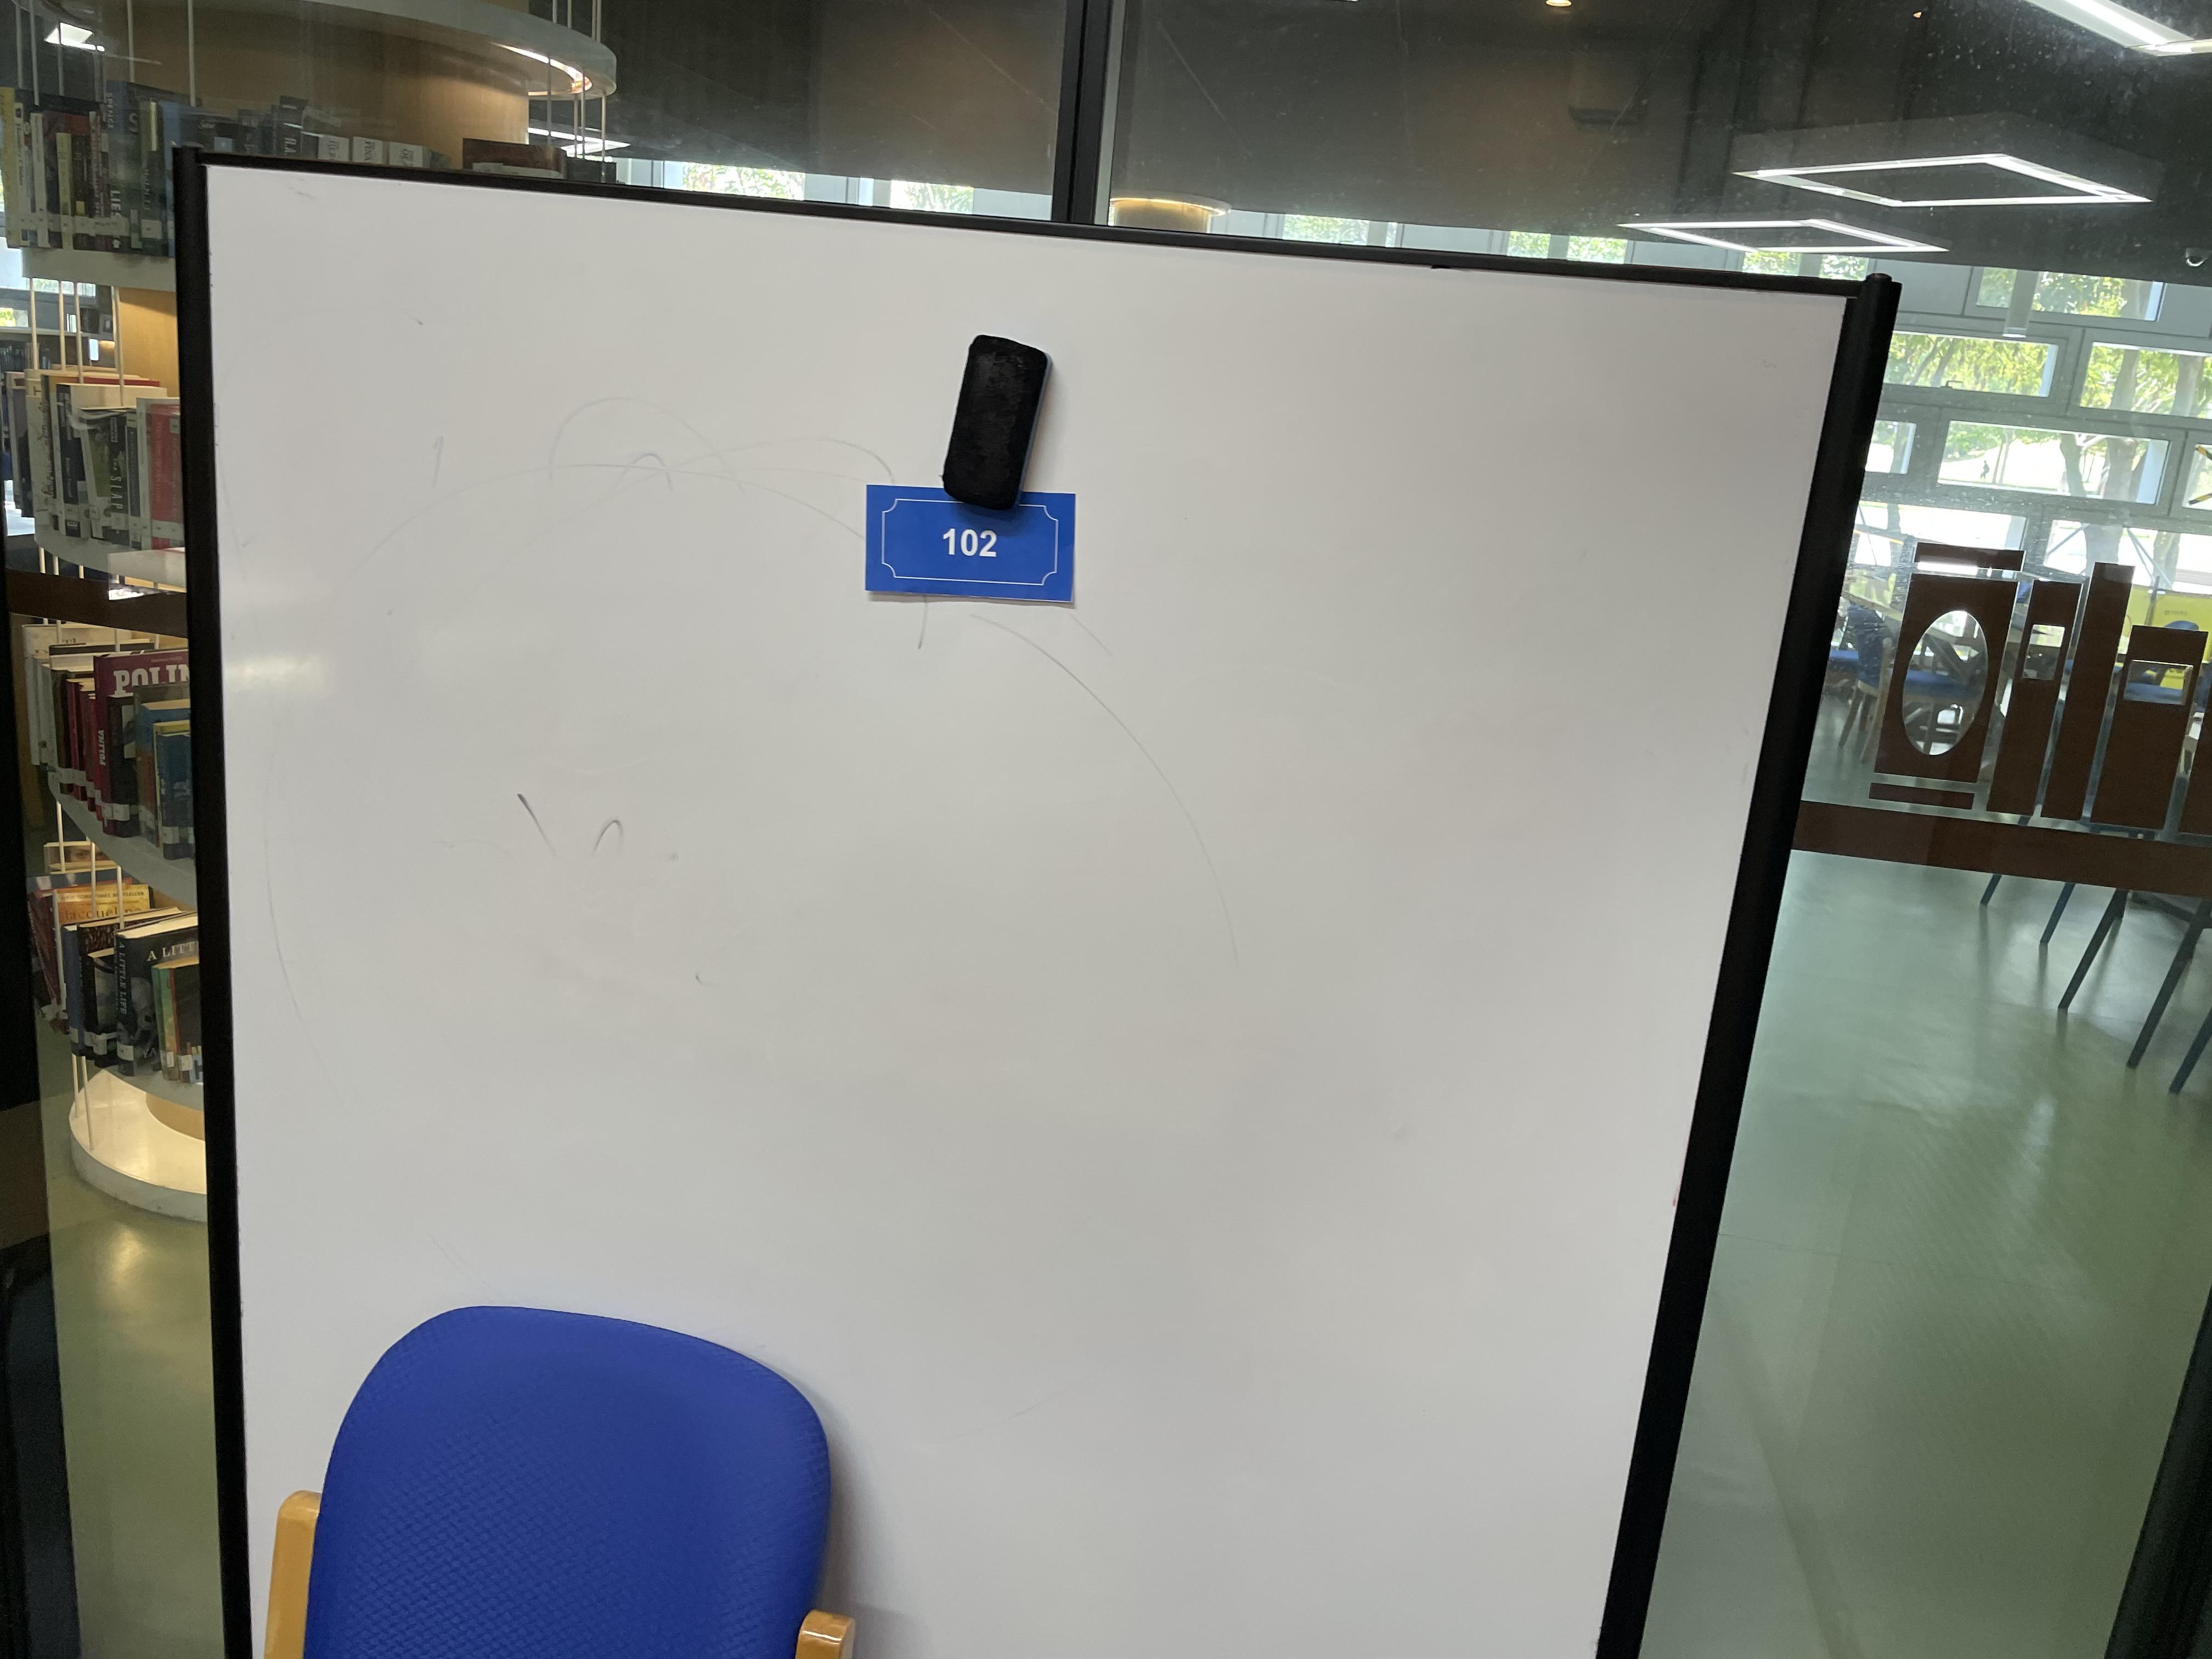Card: (859, 467, 1094, 608)
